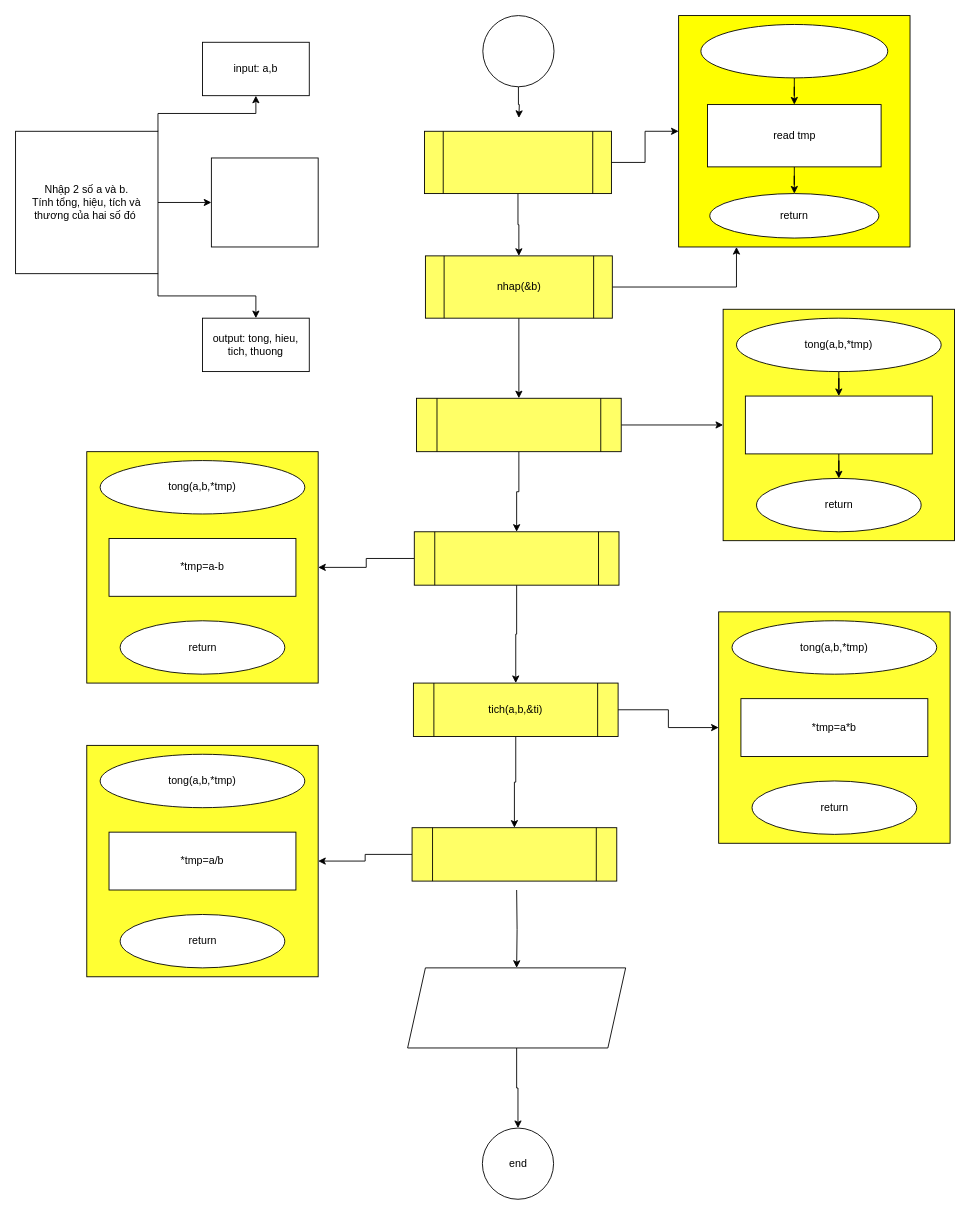
The diagram is 970 pixels wide and 1215 high, and some of its shapes have lost their labels. The centre of each missing label's shape, as x and y in pixels:
*tmp=a+b: (x=838, y=424)
begin: (x=518, y=51)
hieu(a,b,&h): (x=516, y=558)
nhap(&a): (x=517, y=162)
nhap(*tmp): (x=794, y=51)
print t, h, ti, th: (x=516, y=1007)
process: tong=a+b hieu=a-b tich=a*b thuong=a/b: (x=264, y=202)
thuong(a,b,&th): (x=514, y=854)
tong(a,b,&t): (x=518, y=424)
